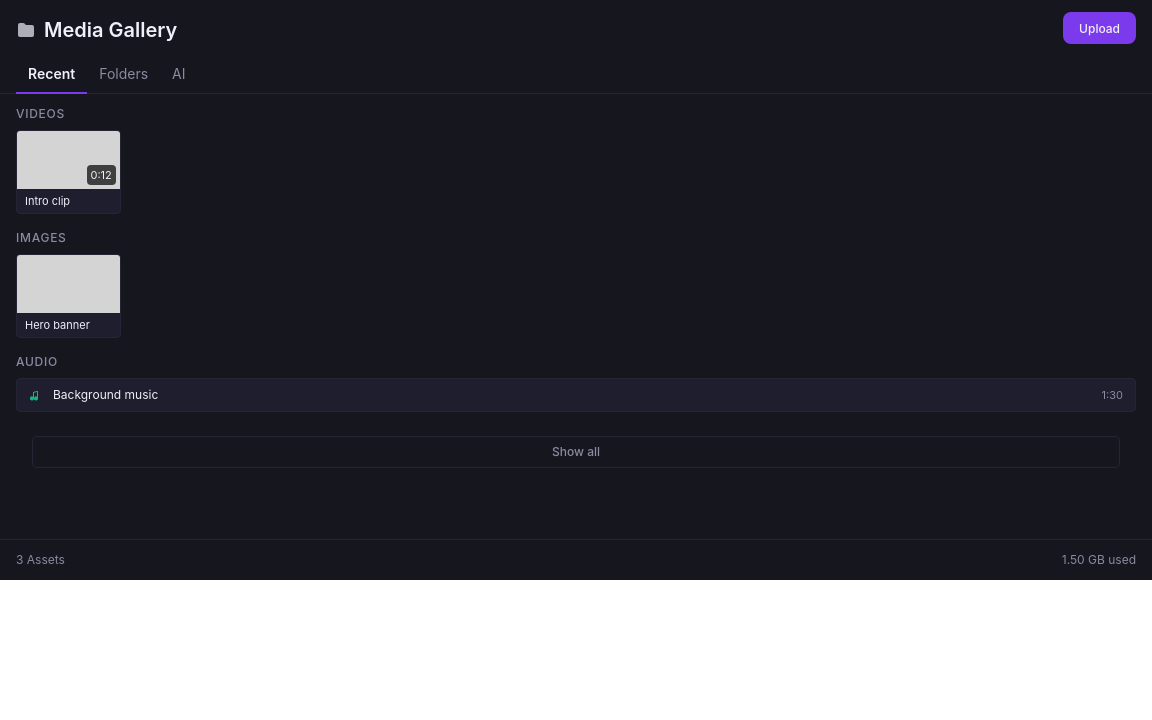
MediaGalleryPanel — scope toggle › clicking toggle again restores "Show all" label
Click the button with test id "scope-toggle" at (576, 452), box [32,436,1120,468]
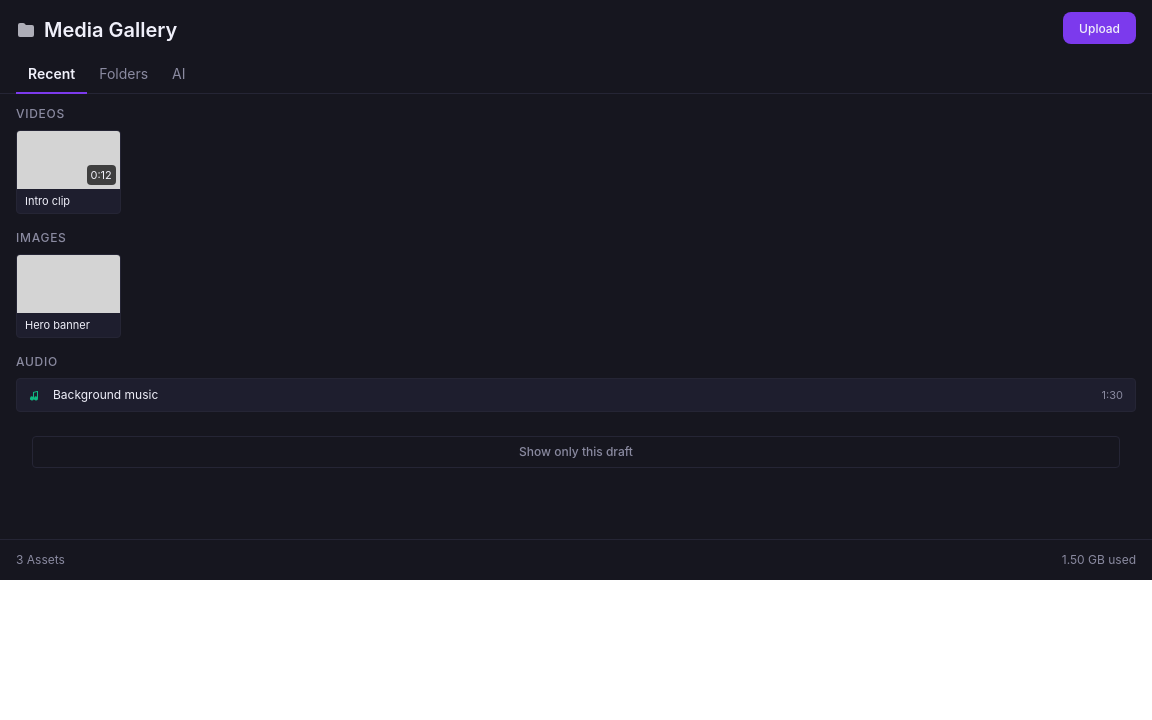
Check: the button with test id "scope-toggle" reads "Show only this draft"
Click the button with test id "scope-toggle" at (576, 452), box [32,436,1120,468]
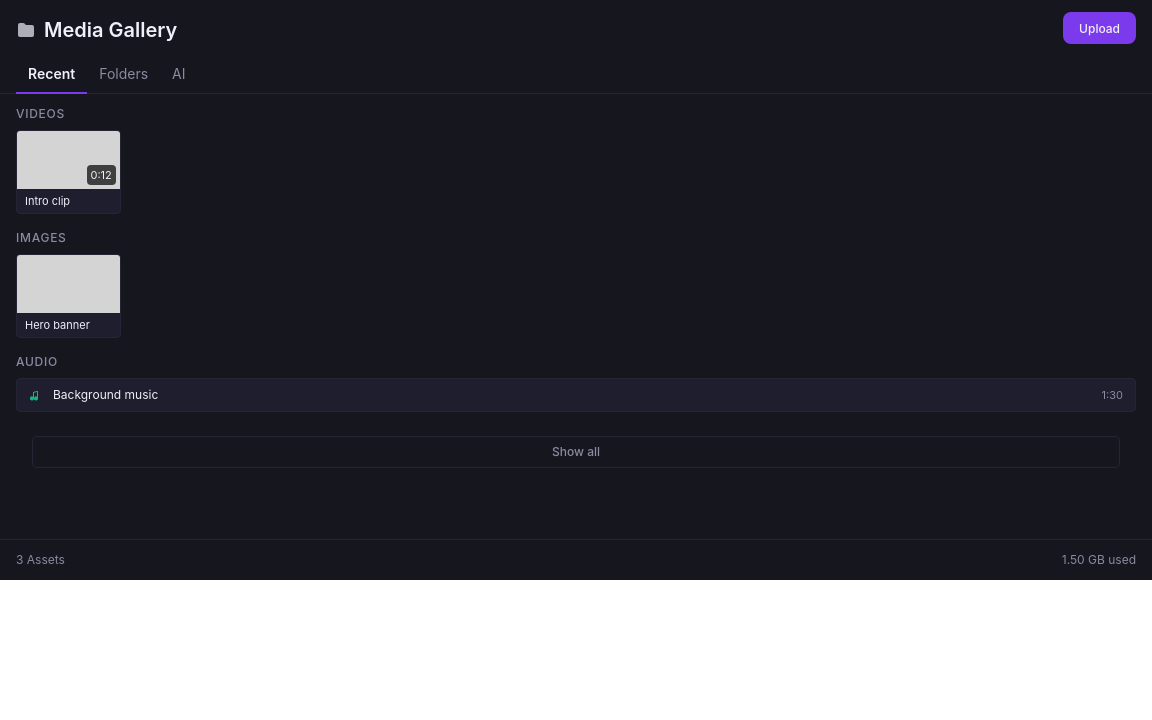
Check: the button with test id "scope-toggle" reads "Show all", box [32,436,1120,468]
